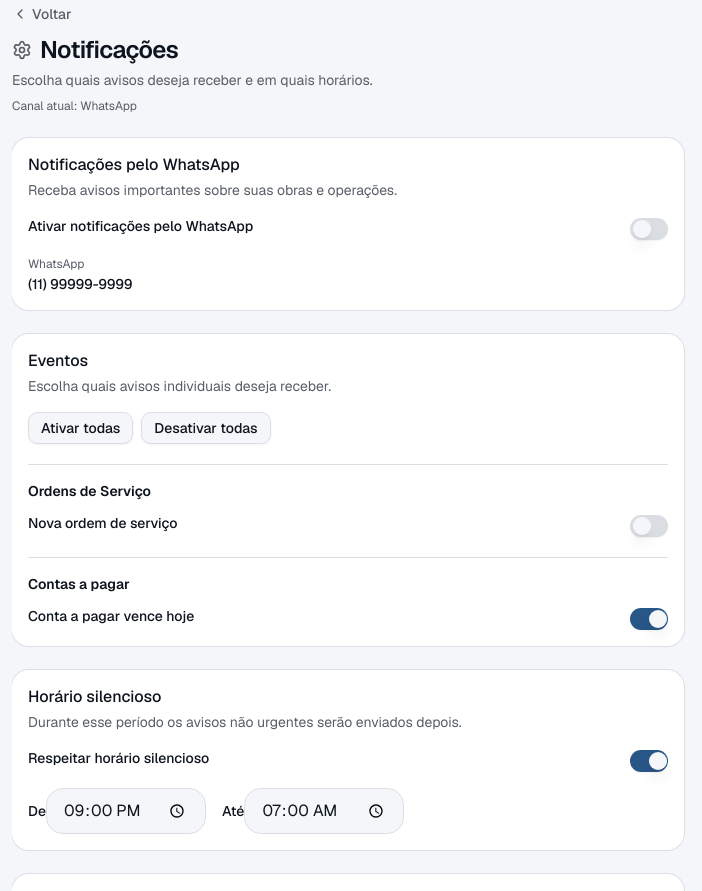
NotificationSettingsPage › U11: quiet hours off disables the time fields but keeps their values
The image size is (702, 891).
Check: the text "Notificações pelo WhatsApp" is shown, box [28,154,240,175]
Click the switch named "Respeitar horário silencioso" in the row of "Respeitar horário silencioso": [649, 761] box [630,750,668,772]
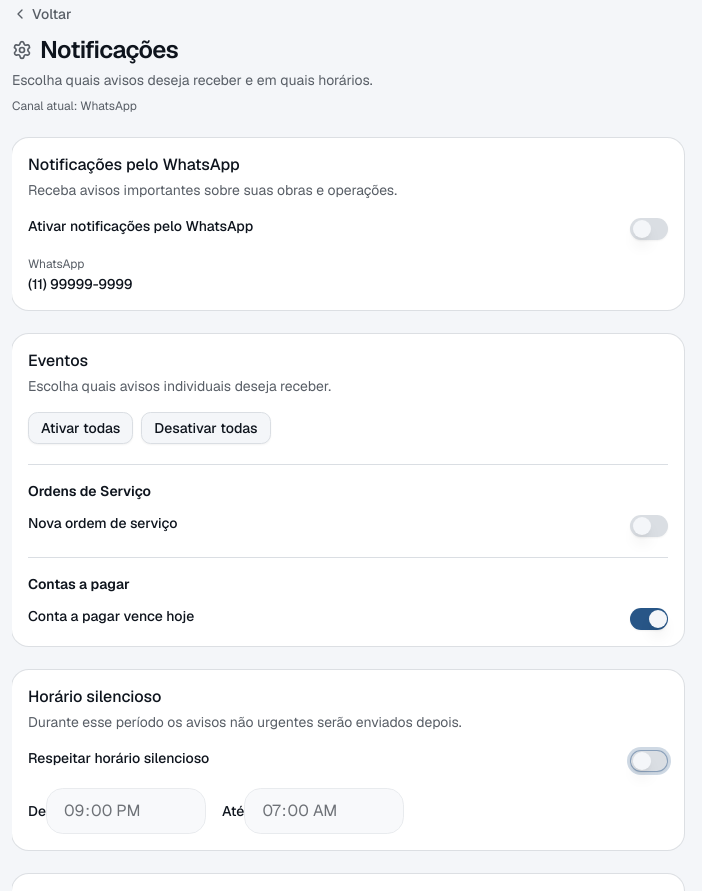
Check: the time field labelled "De" holds "21:00", box [46,788,206,834]
Check: the time field labelled "De" is disabled, box [46,788,206,834]
Check: the time field labelled "Até" is disabled, box [244,788,404,834]
